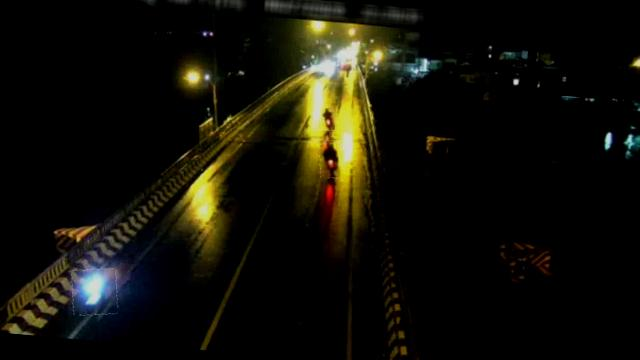Bike: (70, 267, 121, 319), (318, 139, 342, 179), (319, 108, 336, 132)
